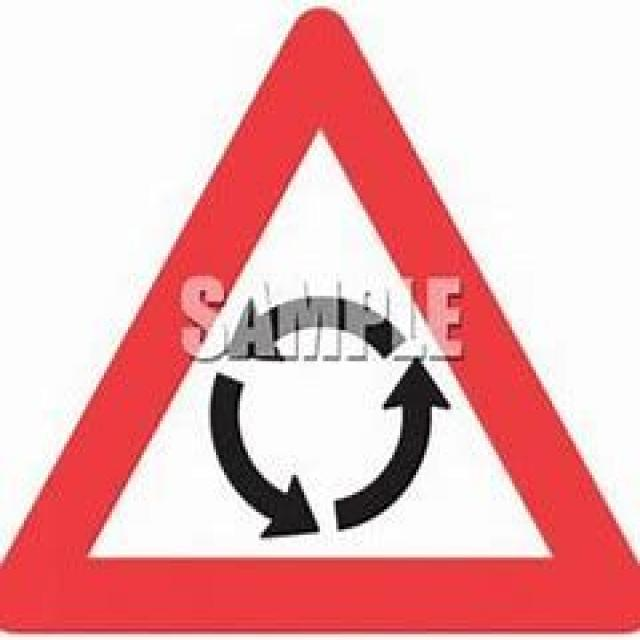ROUNDABOUT: (0, 2, 637, 637)
